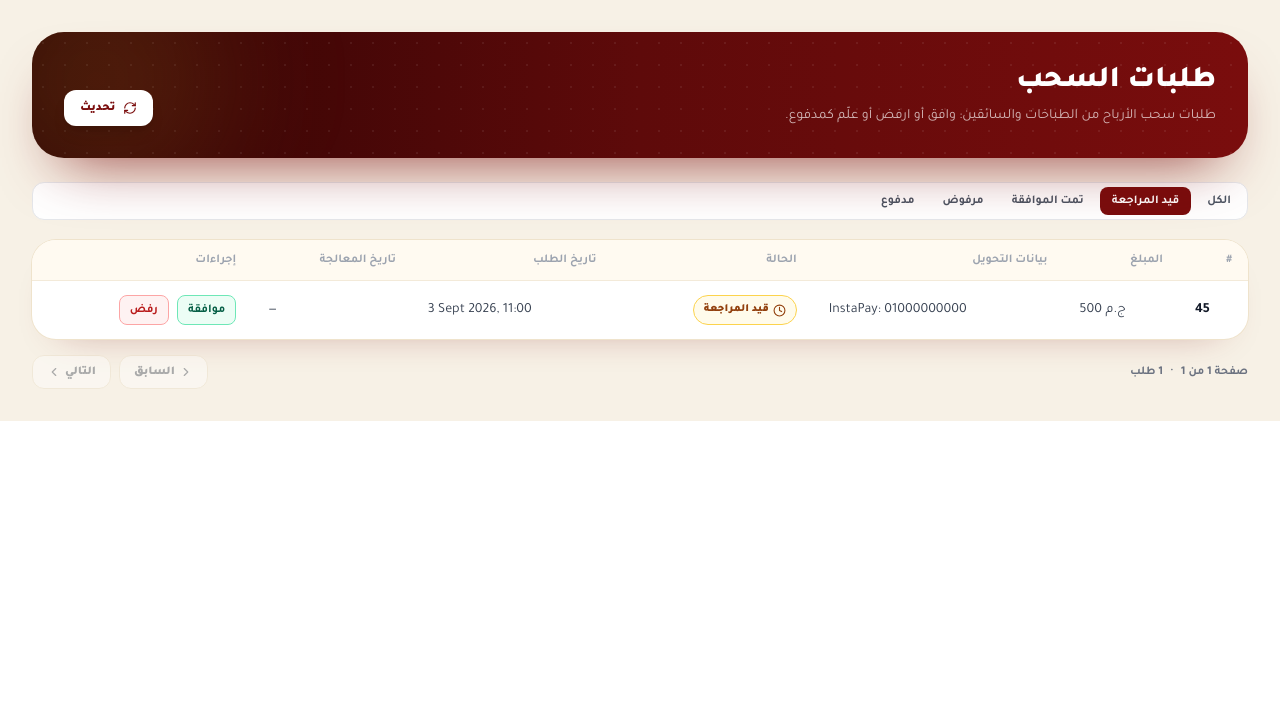
US2 — approve a pending withdrawal › confirm → one no-body POST, re-fetch, row approved, success toast
Check: the text "45" is shown, box [1179,280,1248,339]
Click the button "موافقة": (207, 310) [177,295,236,325]
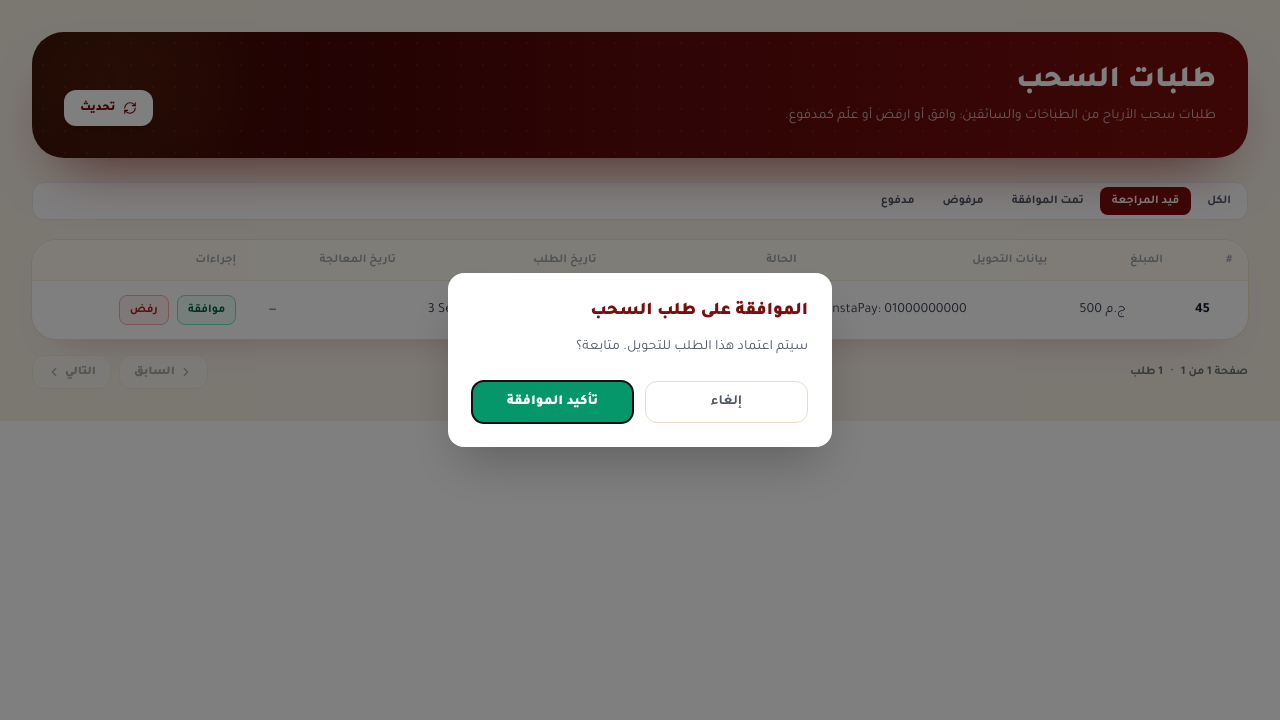
Click the button "تأكيد الموافقة": (552, 402) [472,381,633,423]
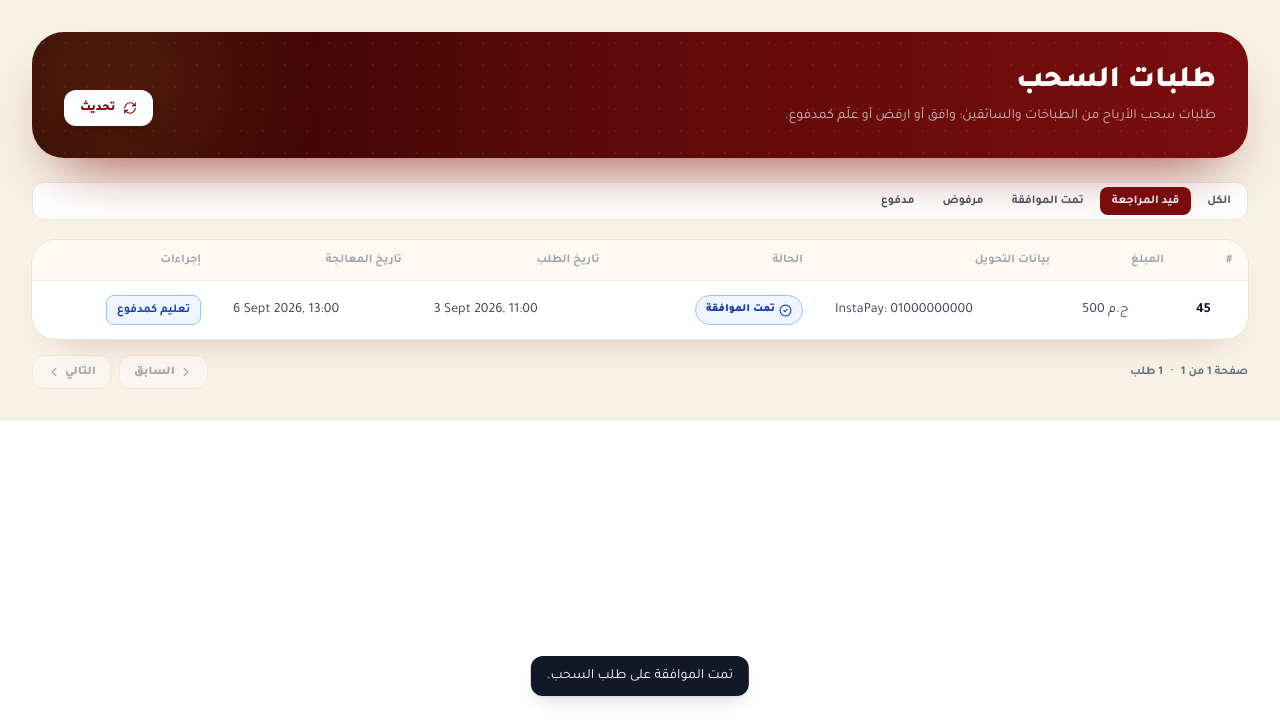
Check: the text "تمت الموافقة" is shown, box [695,295,803,325]
